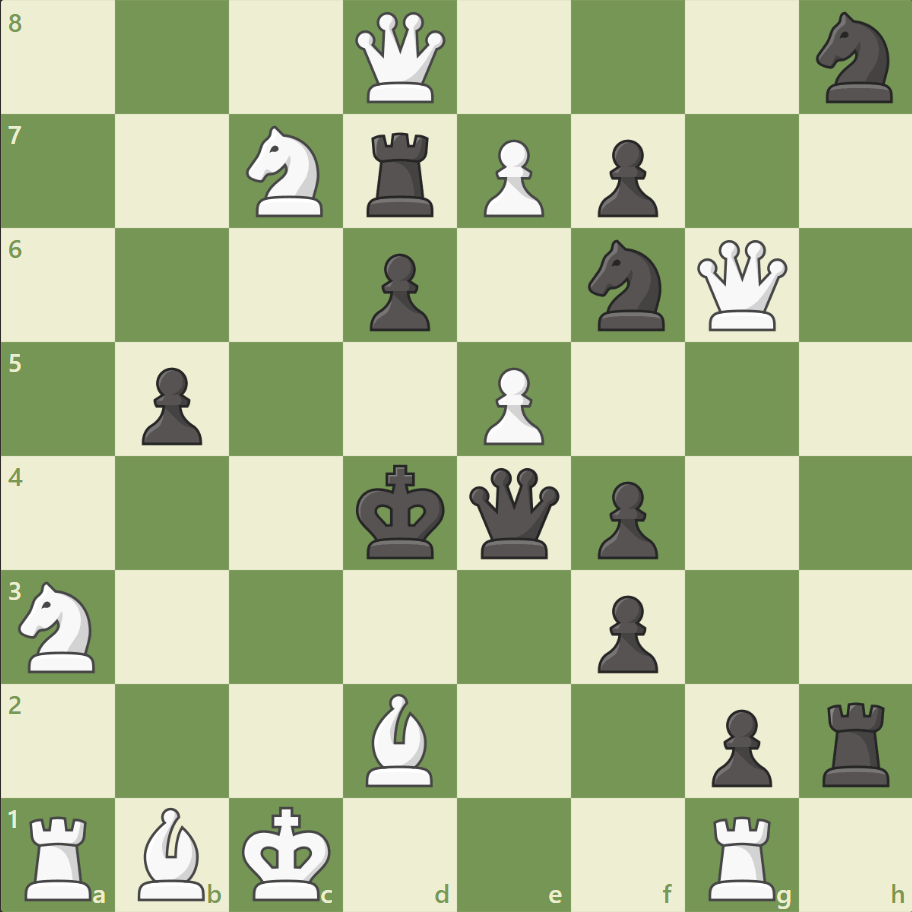B: (358, 687, 442, 790), (131, 801, 215, 904)
K: (238, 798, 338, 906)
N: (238, 121, 335, 223), (11, 575, 108, 677)
P: (474, 132, 549, 223), (474, 359, 549, 450)
Q: (351, 9, 450, 108), (691, 236, 790, 335)
R: (19, 806, 102, 904), (700, 806, 783, 904)
k: (351, 458, 451, 566)
n: (806, 7, 903, 110), (579, 234, 676, 337)
p: (133, 359, 208, 450), (701, 700, 776, 791), (588, 132, 662, 223), (361, 246, 435, 337), (588, 473, 662, 564), (588, 586, 662, 677)
q: (464, 463, 563, 562)
r: (814, 693, 897, 790), (360, 125, 442, 222)
